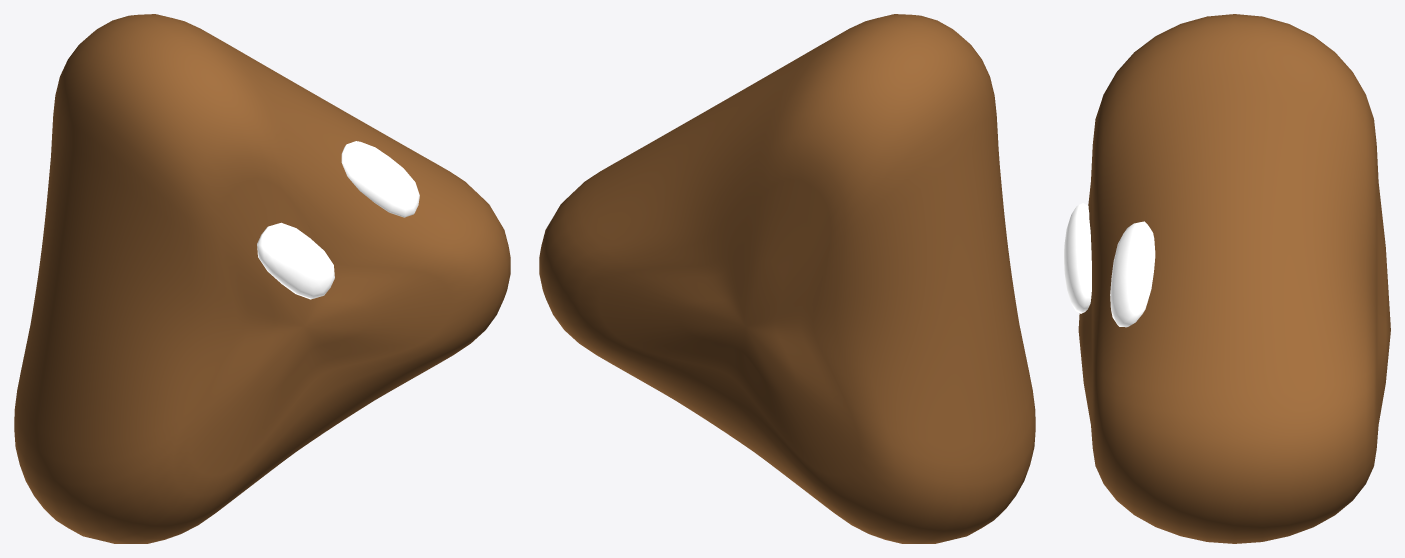
The model's file is competitor-watch.glb.
3 views of the same model, side by side, from view 1: azimuth 30°, elevation 25°; view 2: azimuth 150°, elevation 25°; view 3: azimuth 270°, elevation 25° (orthographic). The views are drawn at different scales.
Visible parts, largest first — view 1: body, eye_L, eye_R; view 2: body; view 3: body, eye_R, eye_L.
Part boxes in pixels (box(x1,y1,x2,y2)): body: box(14, 14, 510, 543); eye_L: box(257, 222, 334, 299); eye_R: box(341, 141, 419, 217); body: box(539, 14, 1035, 543); body: box(1078, 14, 1390, 543); eye_R: box(1110, 221, 1155, 327); eye_L: box(1064, 203, 1091, 313).
Size of the model in its own units: 0.7653 by 0.7807 by 0.4605.
